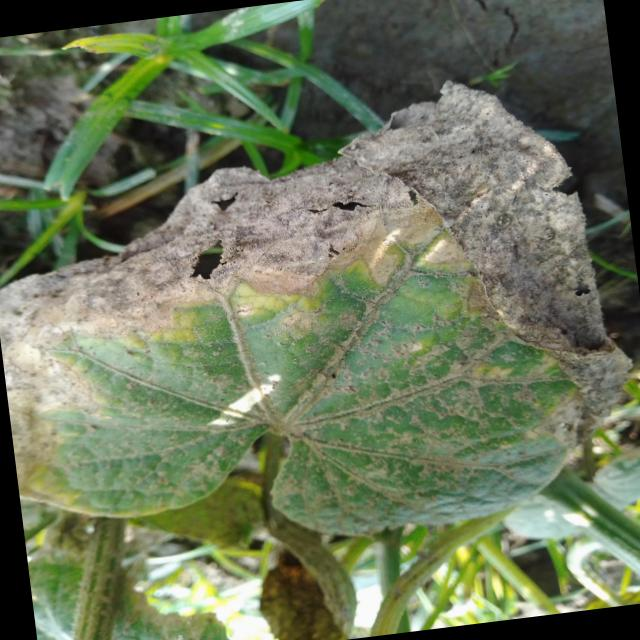cucumber_gummy: (0, 61, 640, 578)
